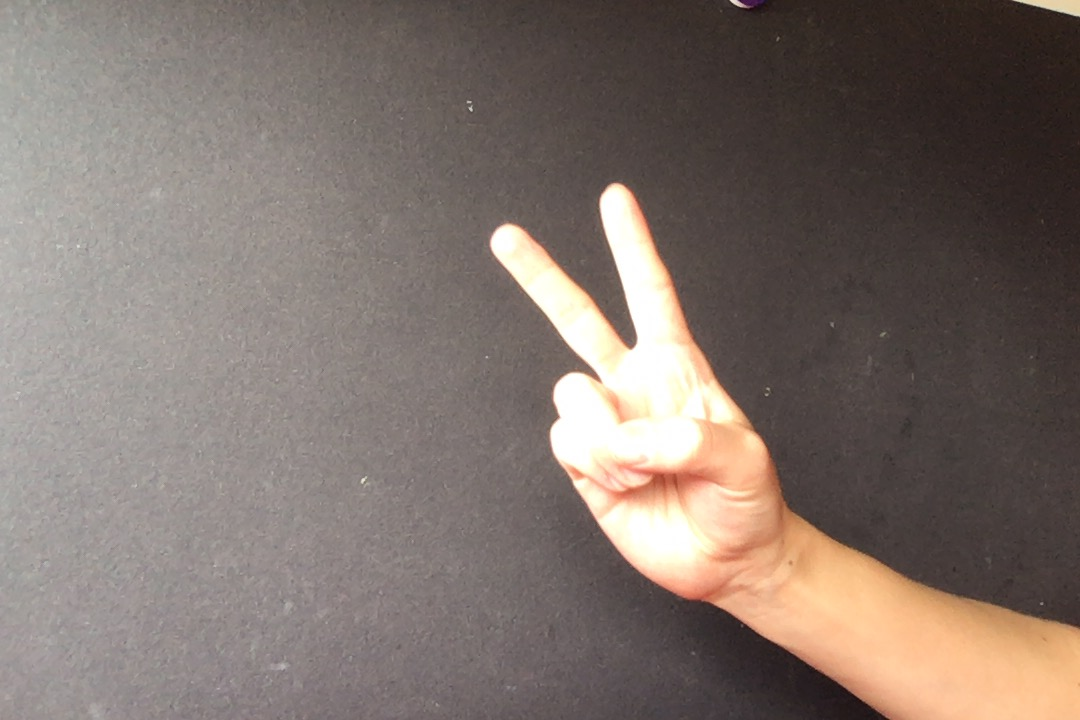peacesign: (480, 178, 794, 614)
